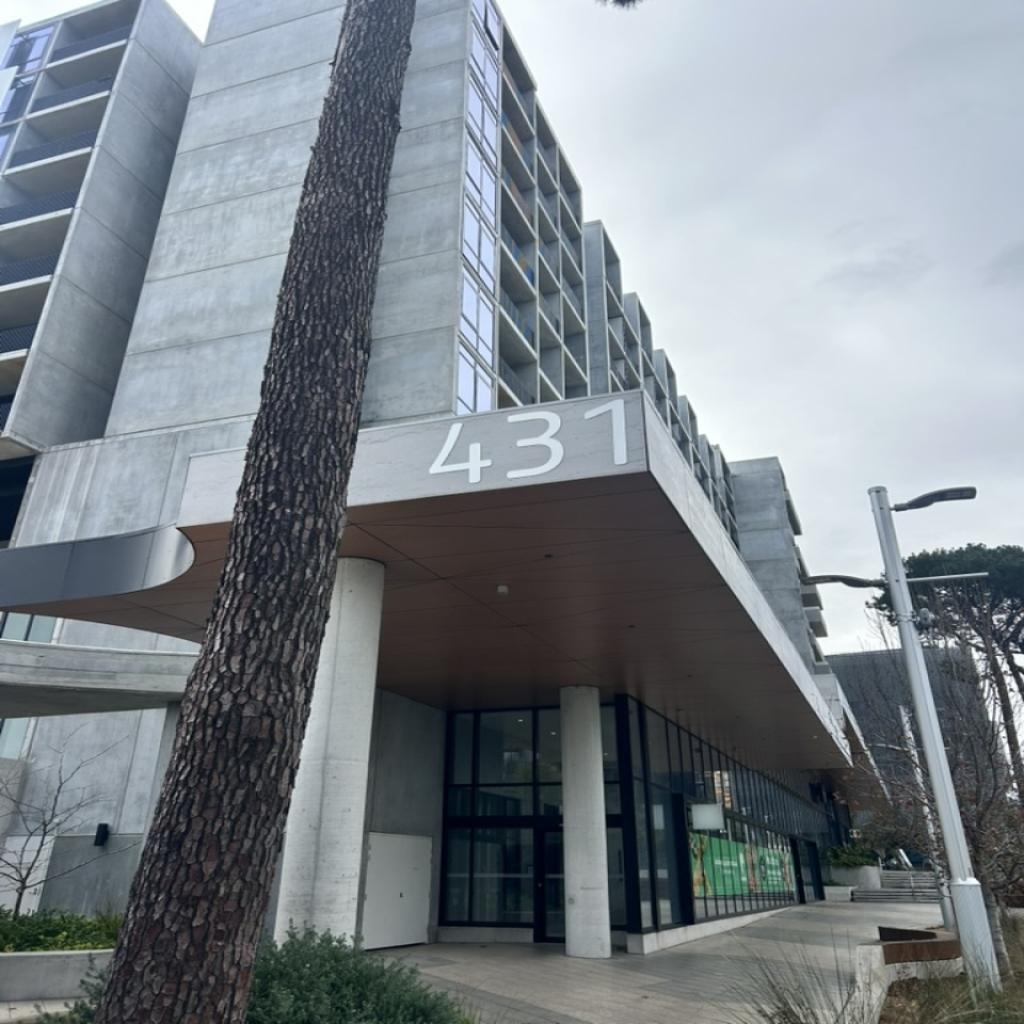BuildingCodes: (426, 397, 630, 485)
